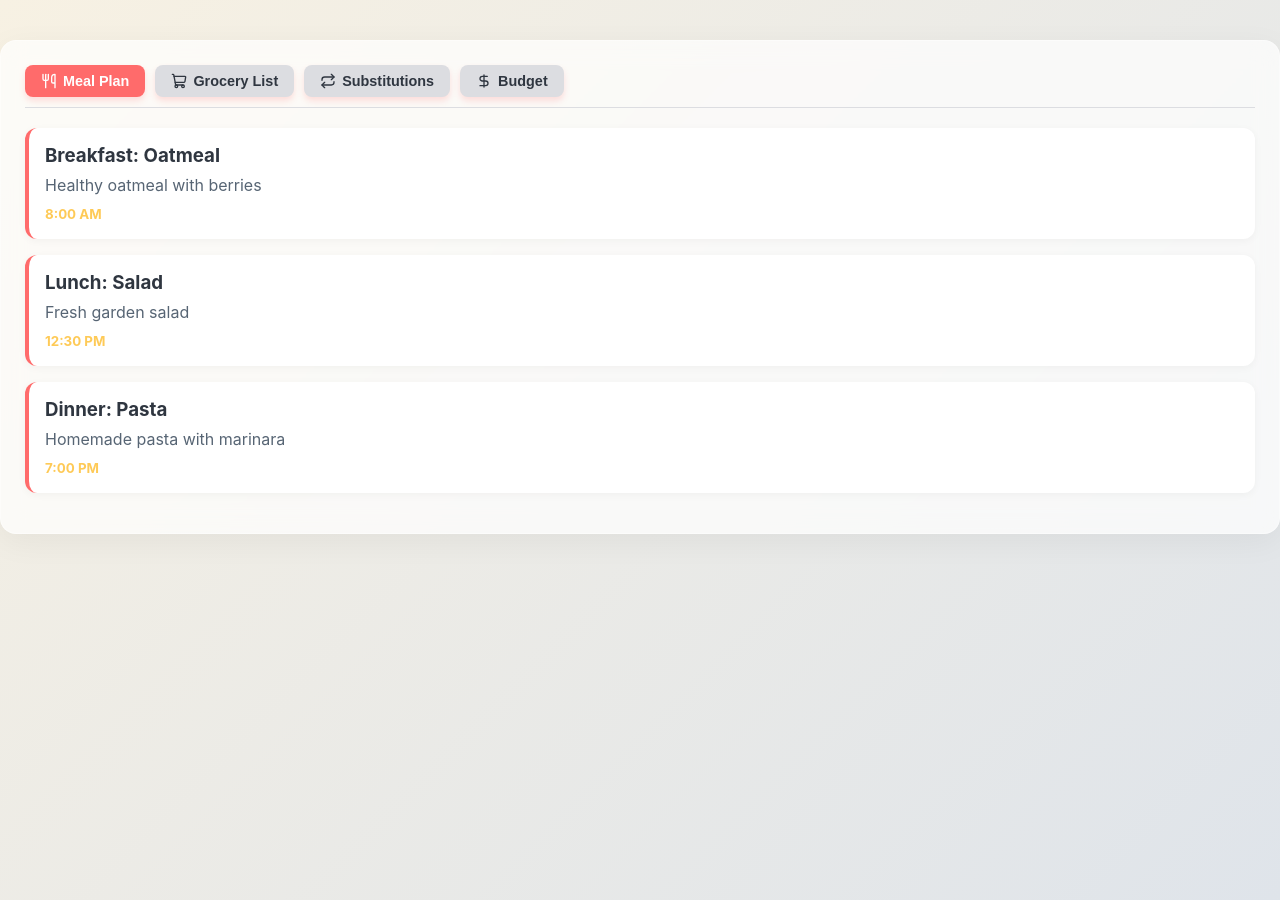
Test case: MealPlanResults › switches to substitutions tab on click
The image size is (1280, 900).
What coordinates should you click on to do the following:
click the tab "Substitutions"
I would click on:
 (377, 81)
Its box is [304,65,450,97].
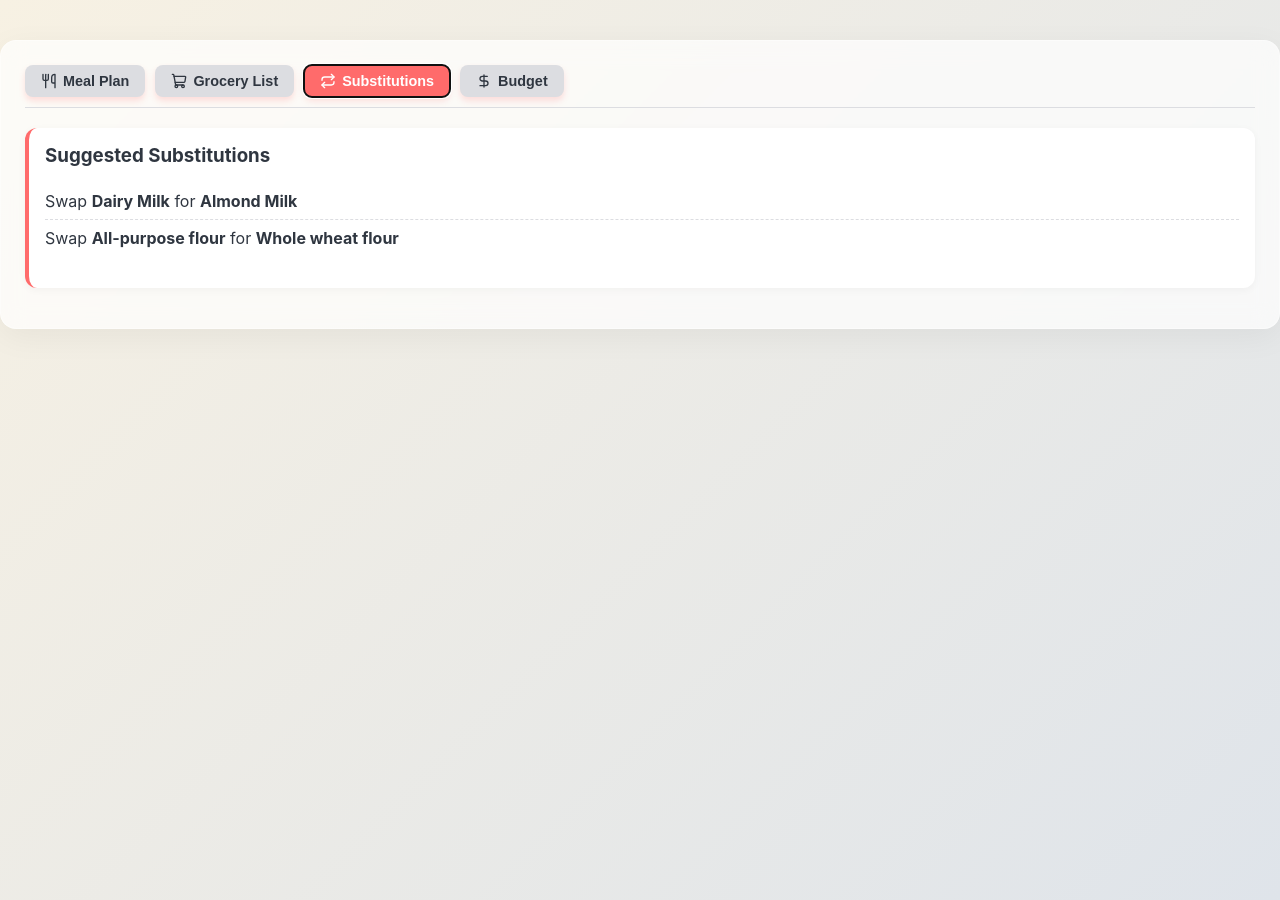
expect the text "Dairy Milk" is shown: met, box [92,191,170,211]
expect the text "Almond Milk" is shown: met, box [200,191,297,211]
expect the text "All-purpose flour" is shown: met, box [92,228,226,248]
